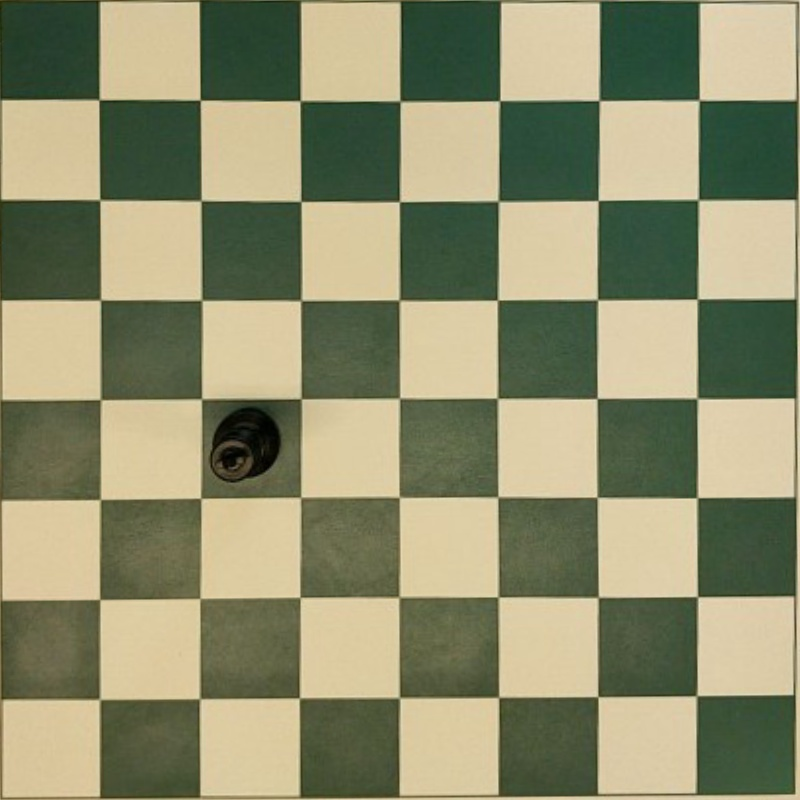black-king: (208, 406, 281, 483)
